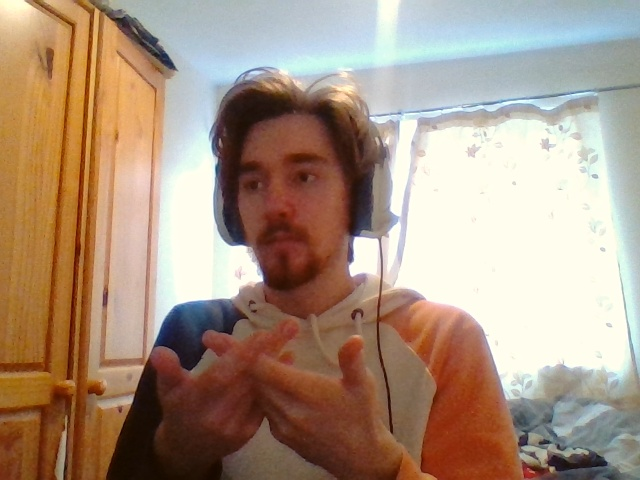how: (151, 318, 373, 462)
